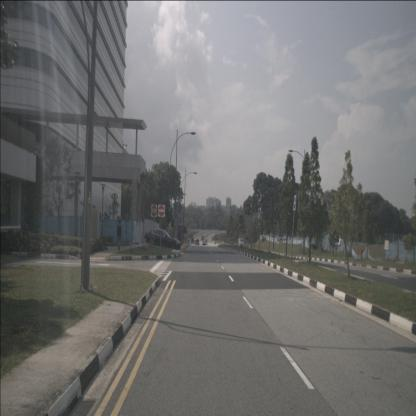cone: (182, 242, 185, 253), (144, 238, 147, 247)
